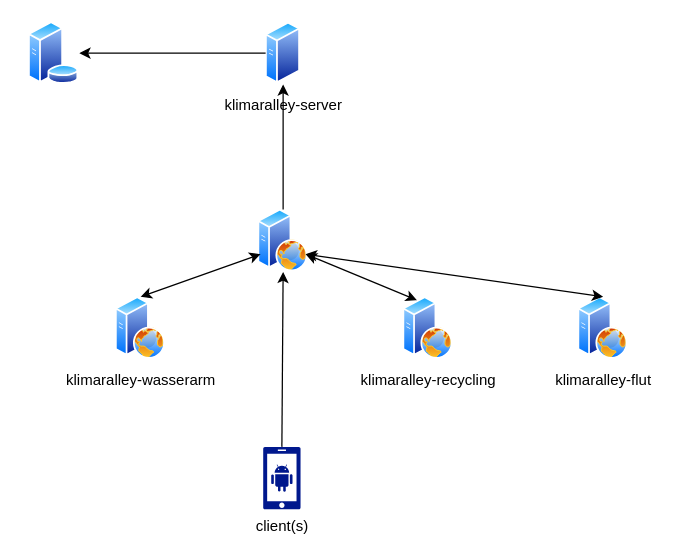
Image size: 673x556. Some labels were removed from this diagram. The centre of each missing label's shape, as x and y in pixels:
"Database" goes at (x=53, y=52).
"klimaralley-hub" goes at (x=283, y=240).
